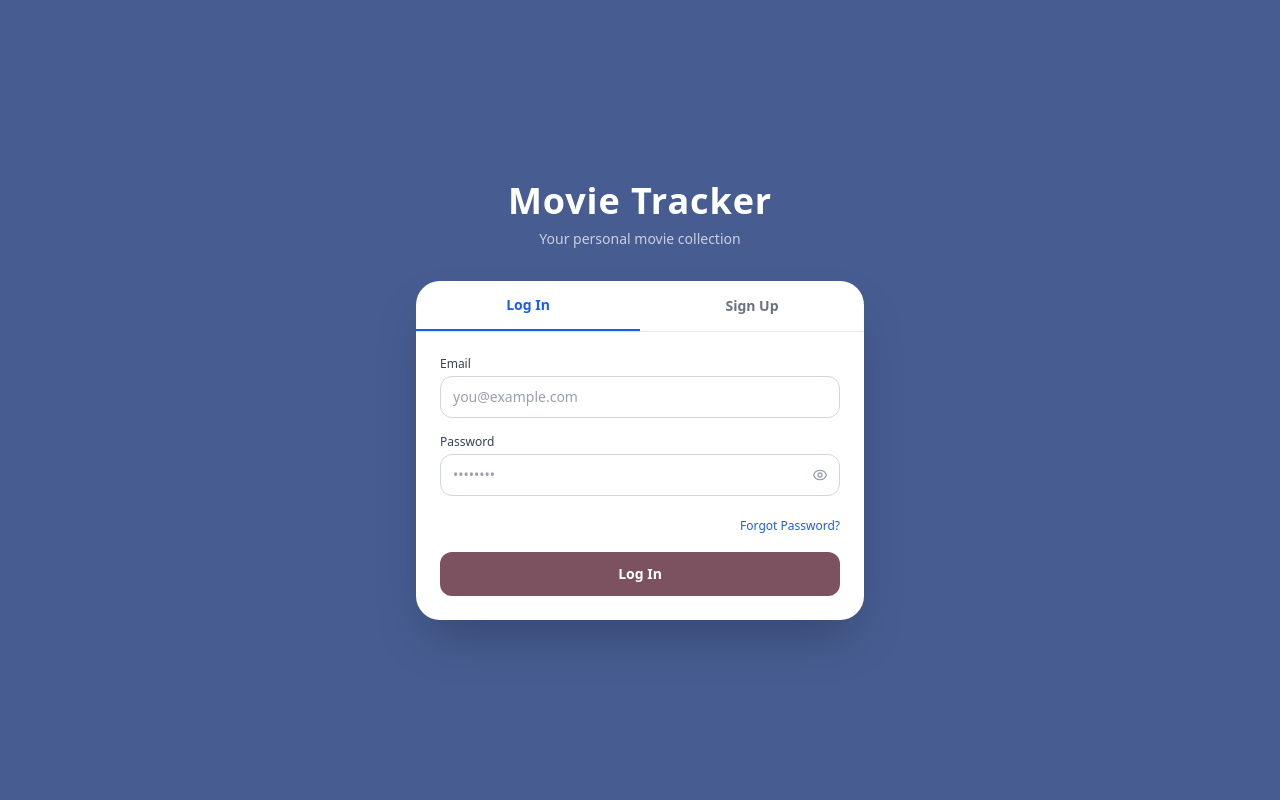
Test: AuthPage › opens forgot password dialog
Click the button "Forgot Password?" at coordinates (790, 526), box [740,518,840,534]
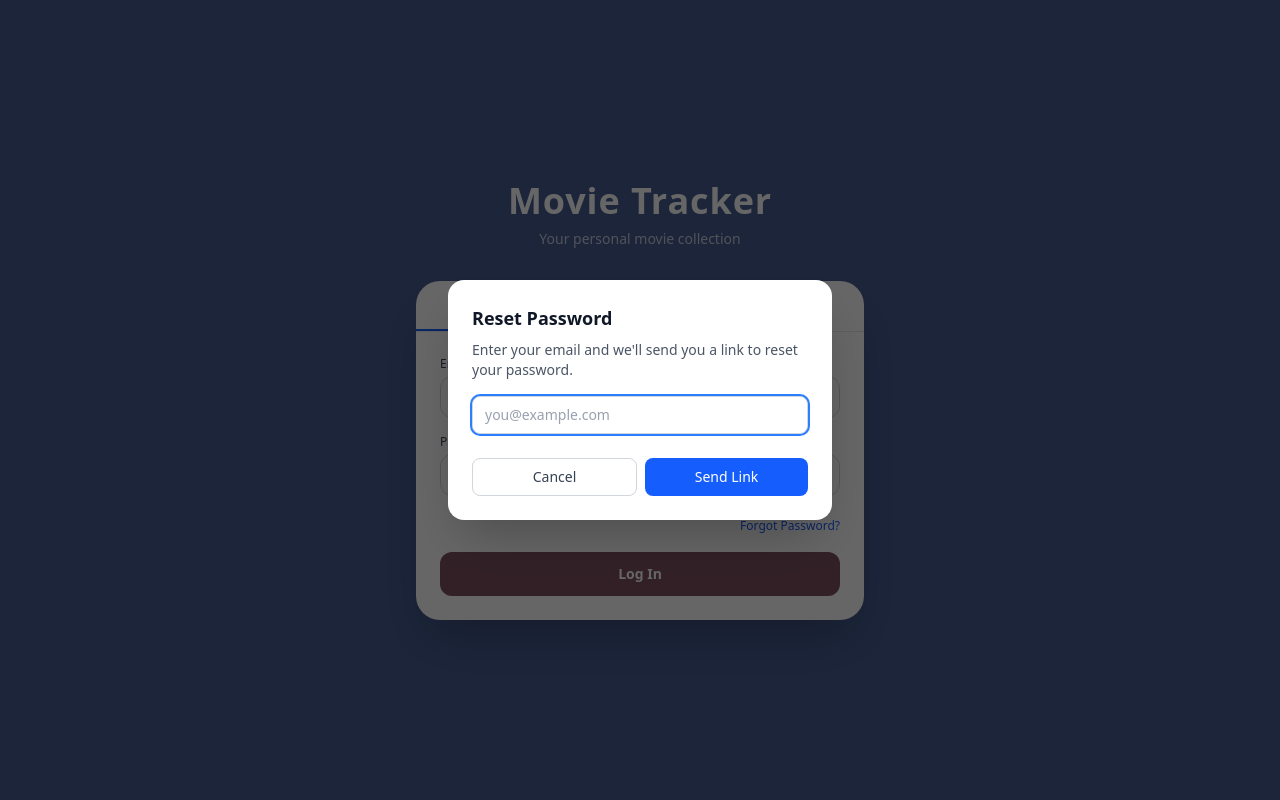
Expected: the heading "Reset Password" is shown, [472,306,612,330]
